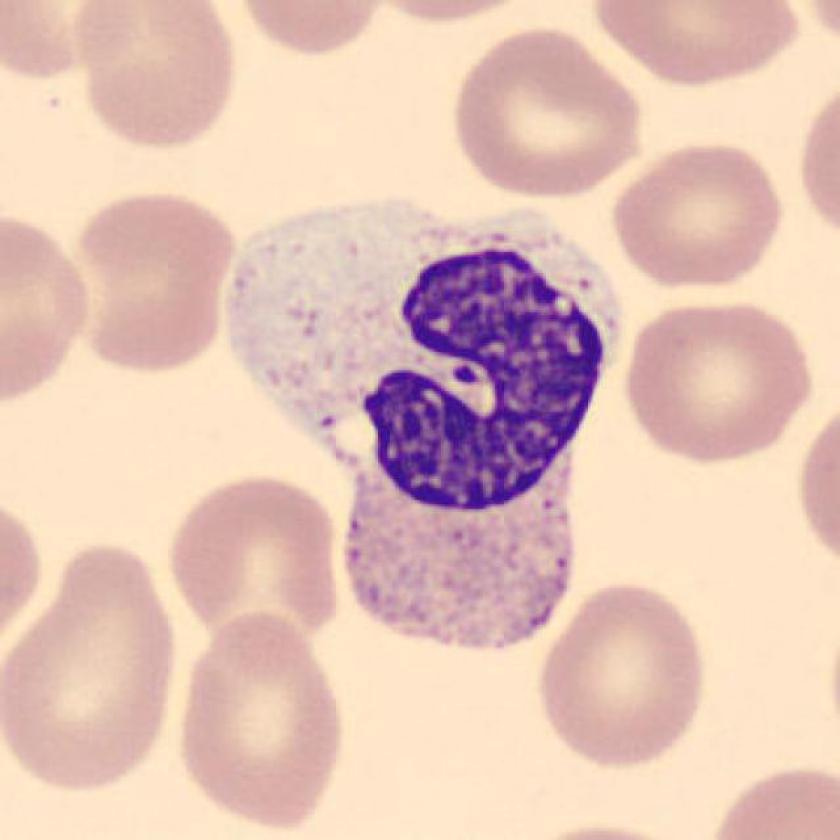neutrophil: (220, 202, 617, 648)
